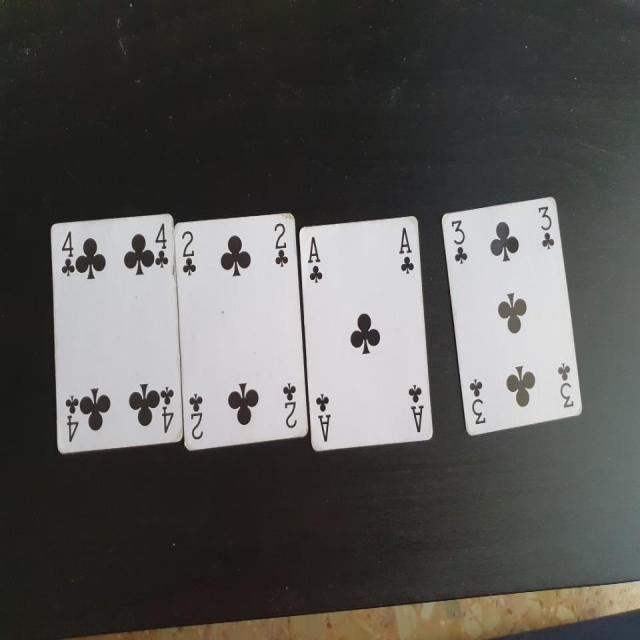2 Trefoils: (173, 209, 309, 452)
3 Trefoils: (440, 194, 584, 439)
4 Trefoils: (48, 214, 184, 454)
A Trefoils: (298, 215, 434, 454)
